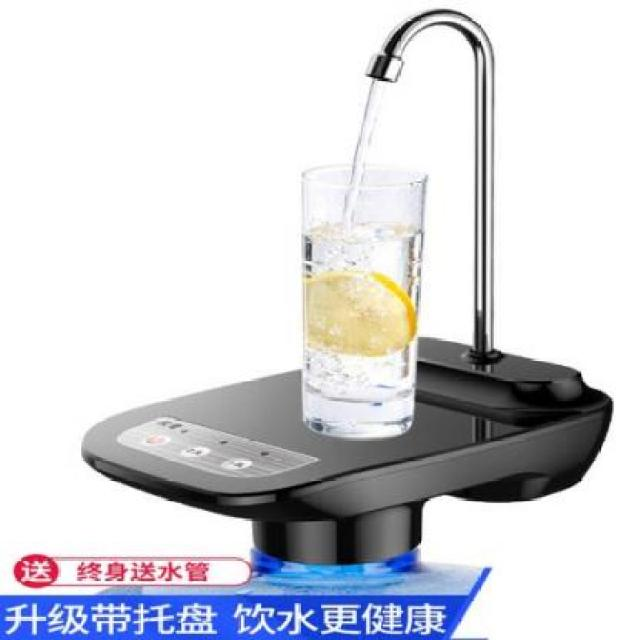cooler: (78, 2, 617, 570)
